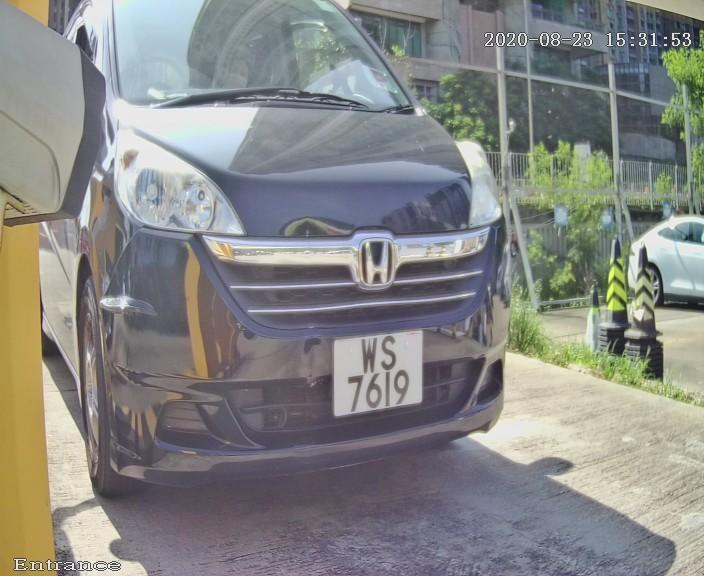Car: (13, 3, 551, 538)
License Plate: (321, 319, 431, 425)
